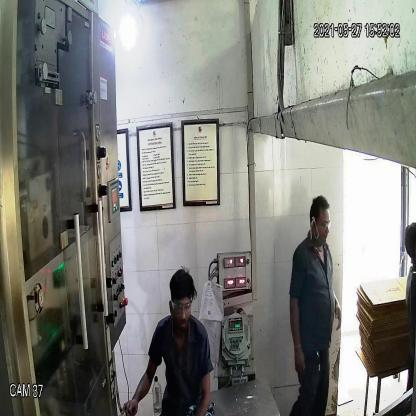goggles: (167, 294, 193, 316), (314, 218, 333, 233)
